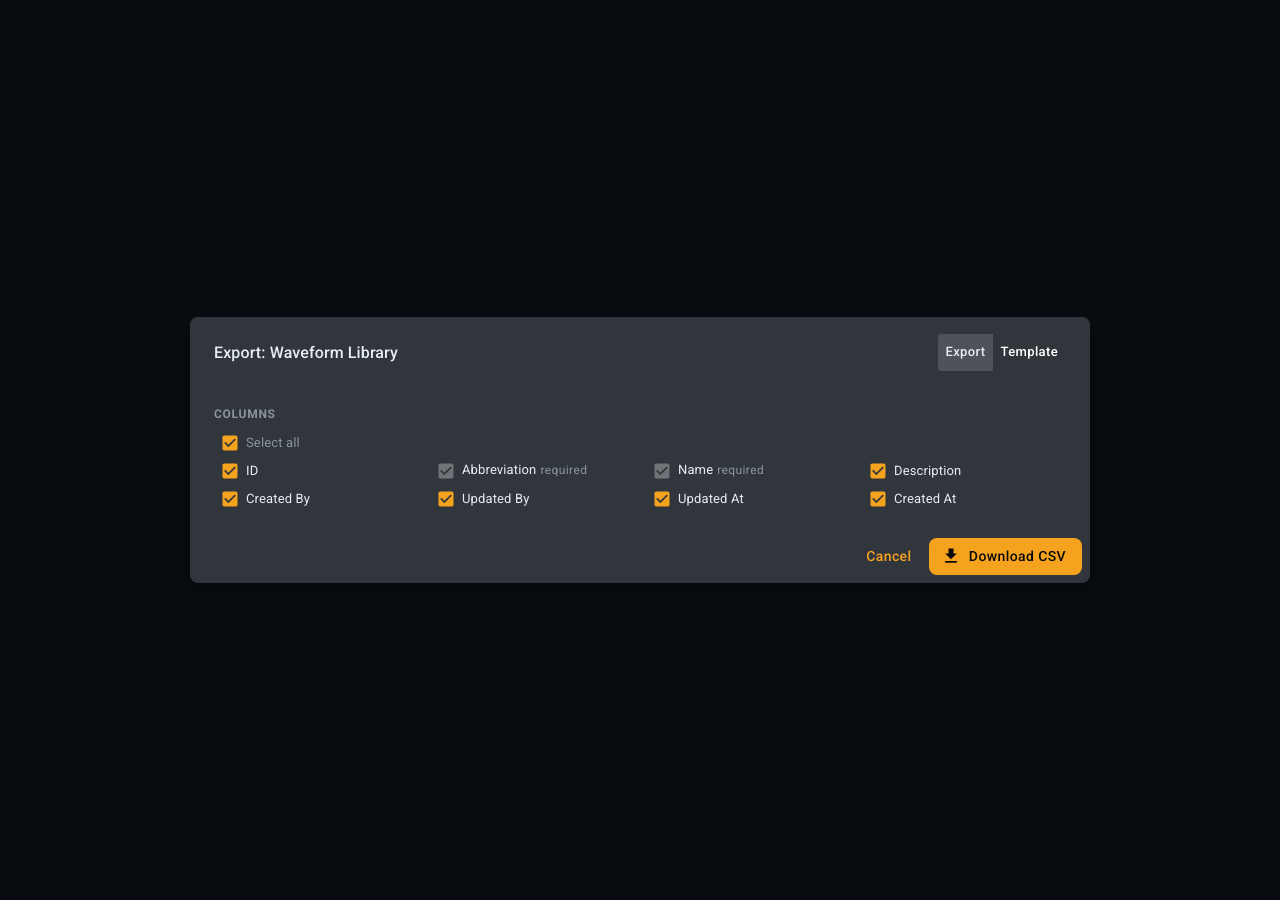
CsvDialog › names the status when the body is not an API error
Step 1. Click the button "Download CSV" → (1005, 556), box top-left (929, 538), bottom-right (1082, 575)
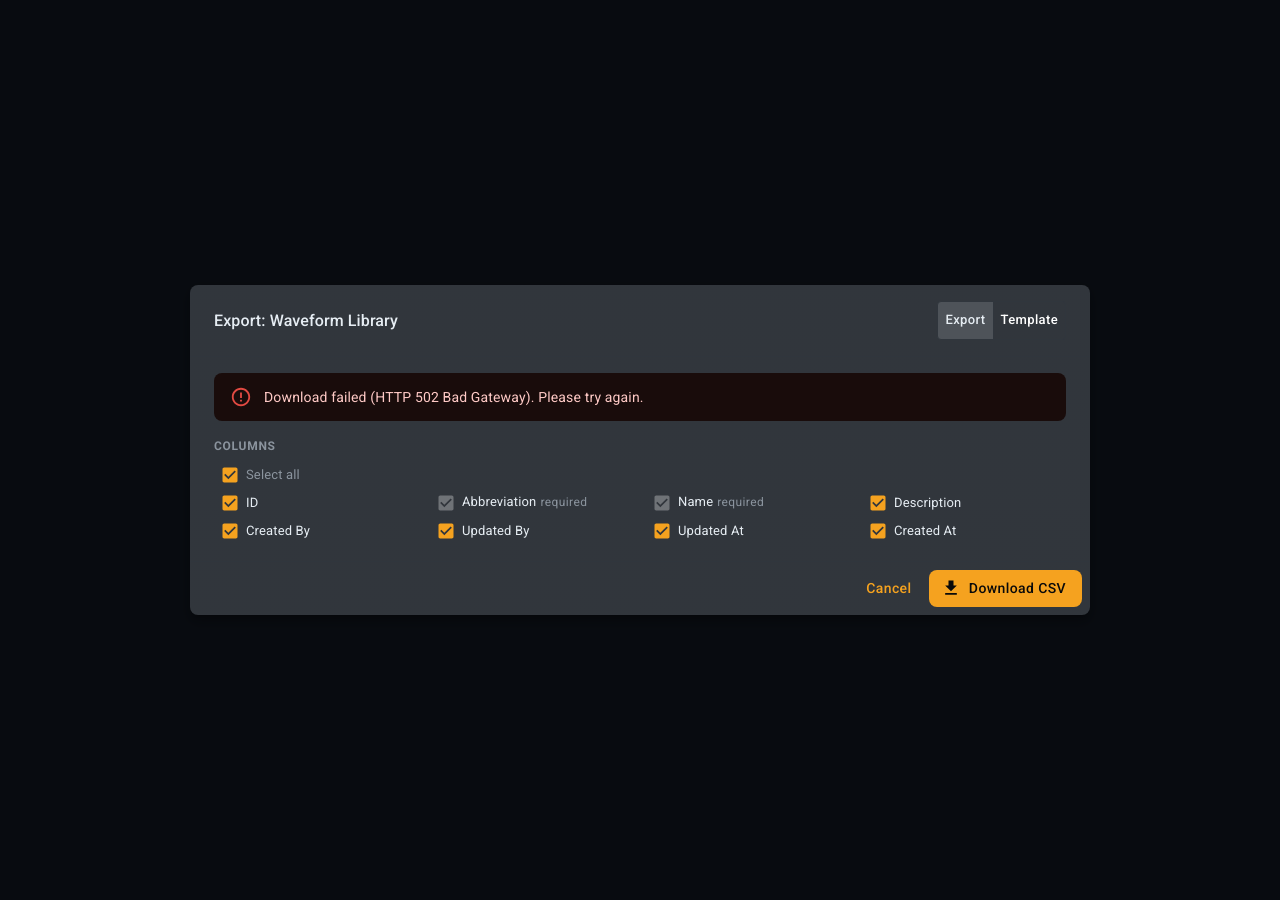
Expected: the text "Download failed (HTTP 502 Bad Gateway). Please try again." is shown, top-left (264, 389), bottom-right (644, 405)
